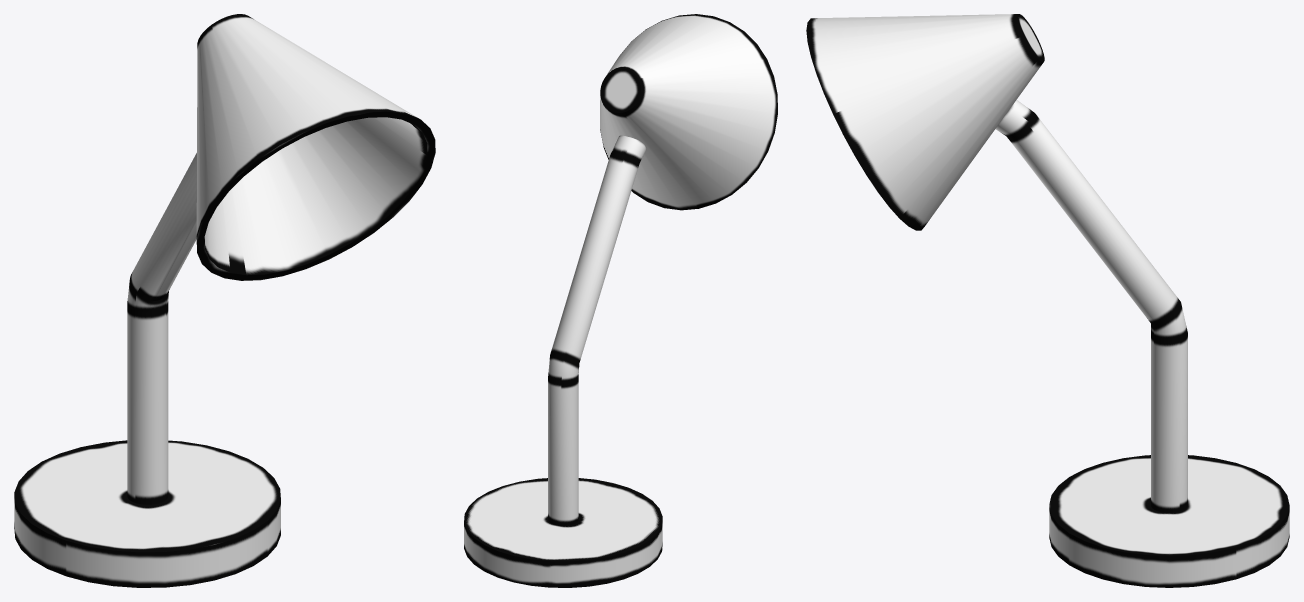
The model's file is lamp.fbx.
3 views of the same model, side by side, from view 1: azimuth 30°, elevation 25°; view 2: azimuth 150°, elevation 25°; view 3: azimuth 270°, elevation 25° (orthographic). The views are drawn at different scales.
Visible parts, largest first — view 1: Cylinder; view 2: Cylinder; view 3: Cylinder.
Part boxes in pixels (left/top/right/bottom): Cylinder: left=14, top=14, right=435, bottom=587; Cylinder: left=464, top=14, right=777, bottom=587; Cylinder: left=806, top=14, right=1289, bottom=587.
Size of the model in its own units: 442 by 1056 by 888.
